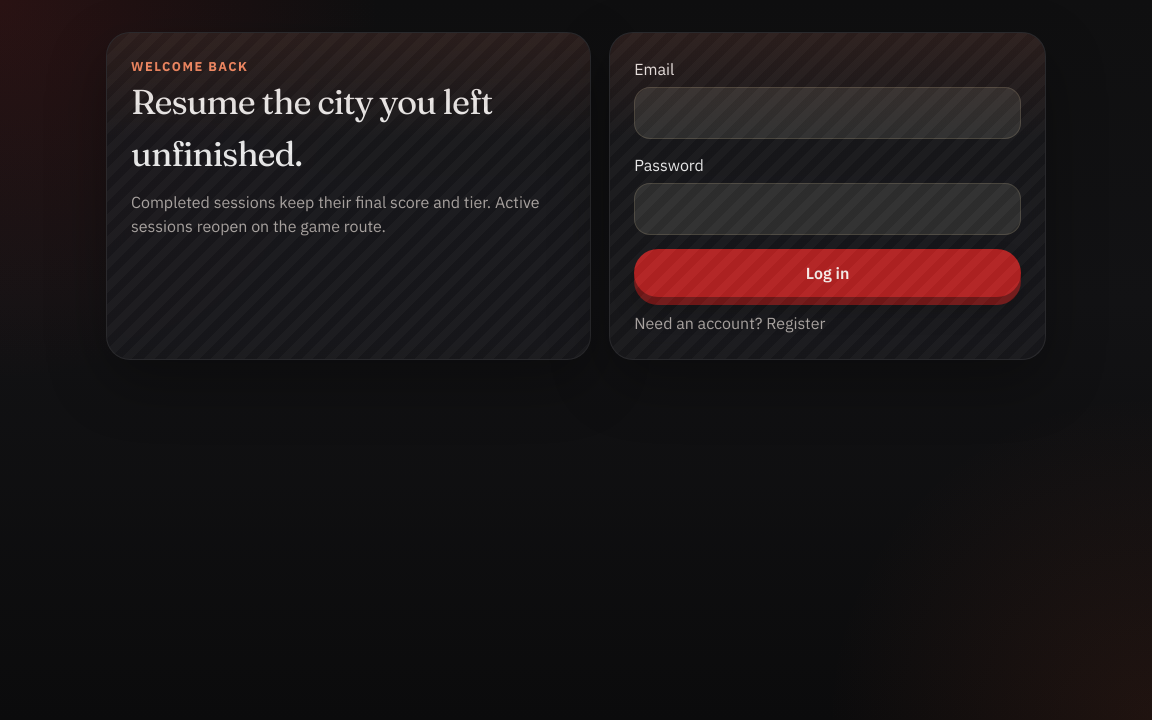
Test: Authentication › Login Page › shows an error for non-existent email
Step 1. Type "nobody@ecocity.com" into the field named "email" → (828, 113), box top-left (634, 87), bottom-right (1021, 139)
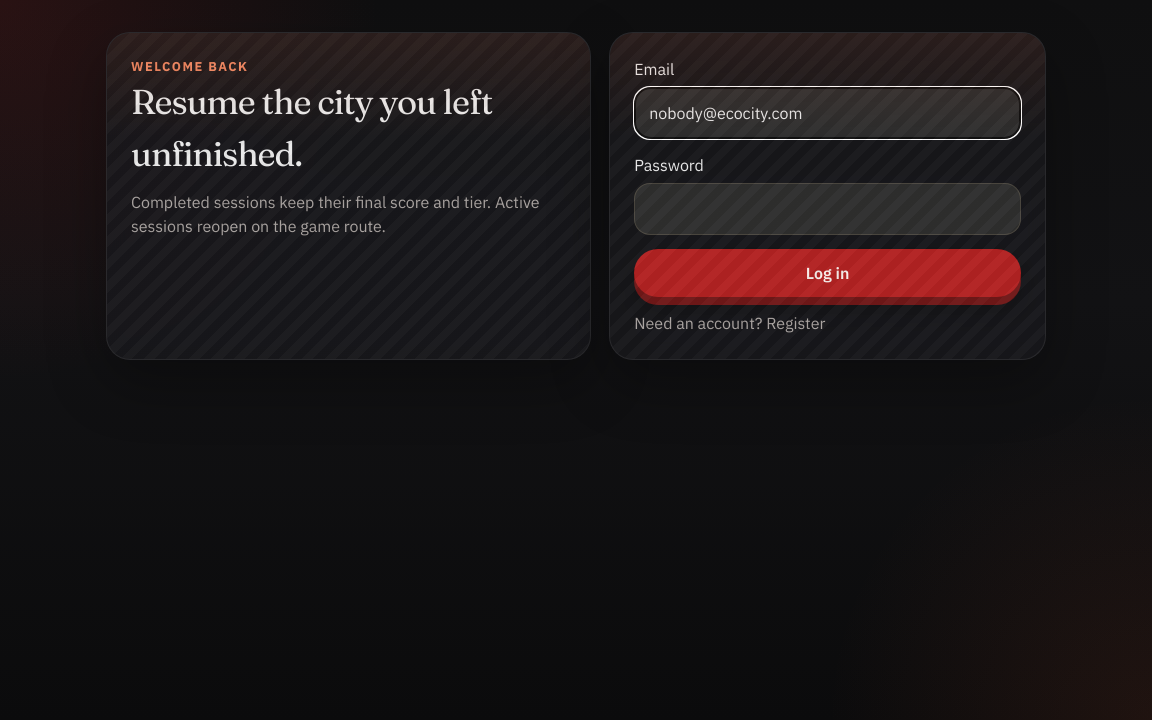
Step 2. Type "SomePassword1" into the password field named "password" → (828, 209), box top-left (634, 183), bottom-right (1021, 235)
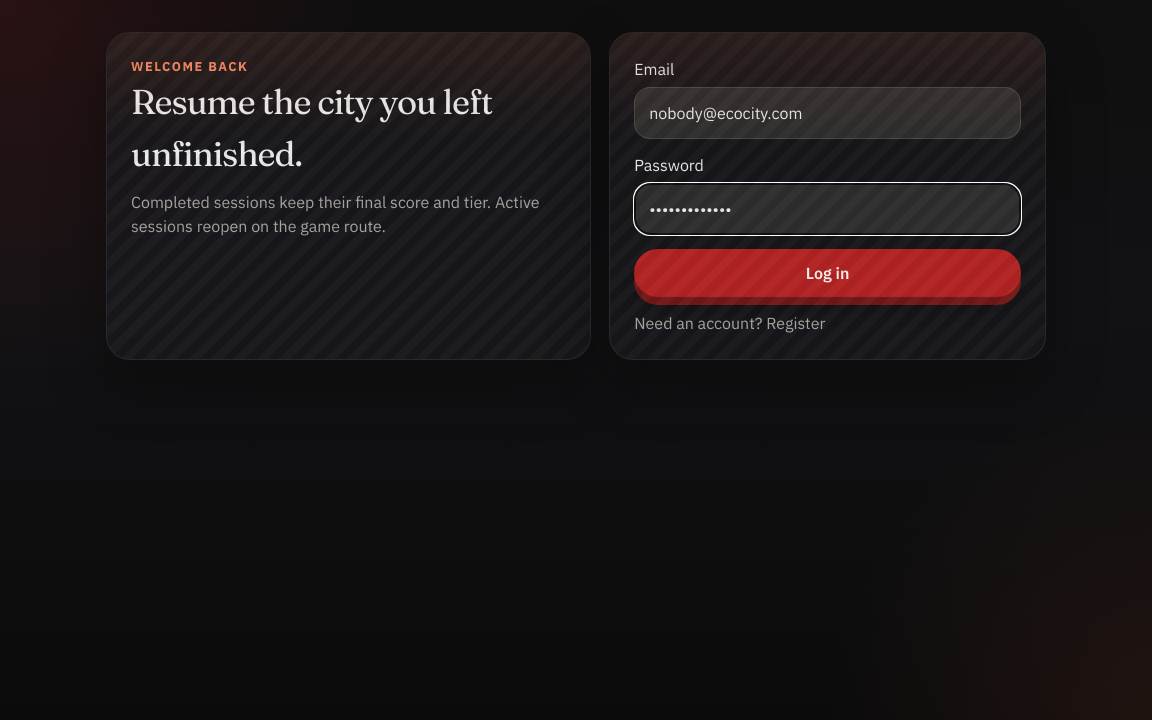
Step 3. Click the button "Log in" → (828, 273), box top-left (634, 249), bottom-right (1021, 297)
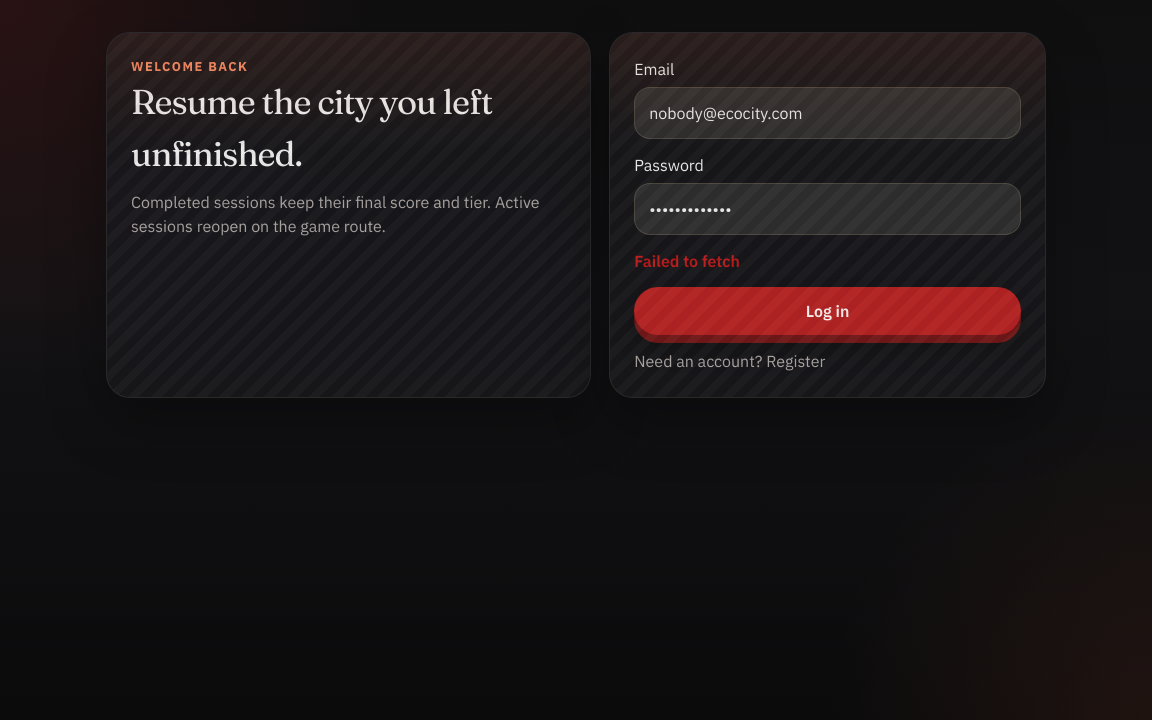
Now the text "Failed to fetch" is shown, box top-left (634, 251), bottom-right (740, 271)
